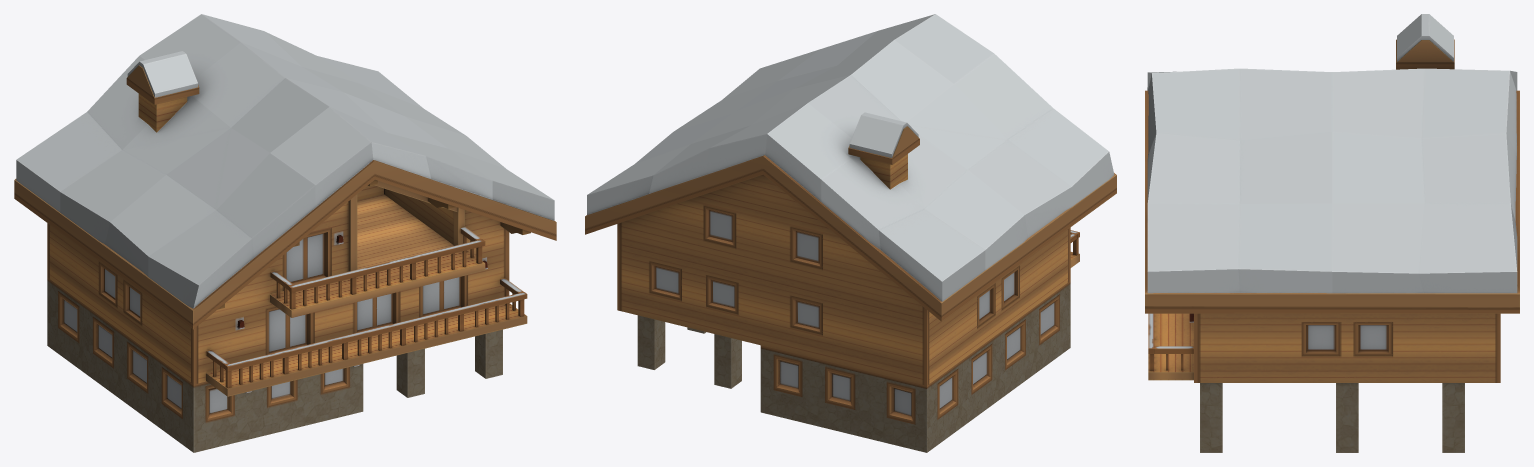
File: chalet.glb
3 views of the same model, side by side, from view 1: azimuth 30°, elevation 25°; view 2: azimuth 150°, elevation 25°; view 3: azimuth 270°, elevation 25° (orthographic). The views are drawn at different scales.
Visible parts, largest first — view 1: Chalet_mesh; view 2: Chalet_mesh; view 3: Chalet_mesh.
Boxes of the visible parts, box(x1,y1,x2,y2) form: Chalet_mesh: box(14, 14, 556, 452); Chalet_mesh: box(585, 14, 1116, 452); Chalet_mesh: box(1145, 14, 1519, 452).
Size of the model in its own units: 13.59 by 10.54 by 11.58.
1 material, 1 textured.
